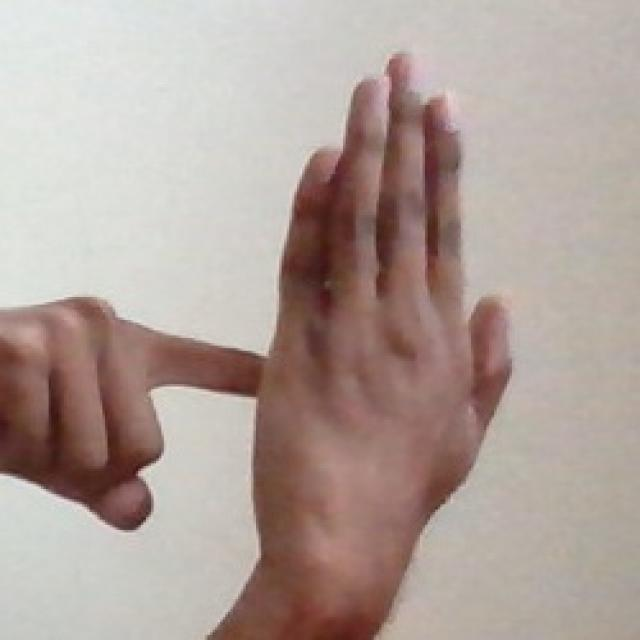Alphabet-R: (0, 30, 525, 640)
